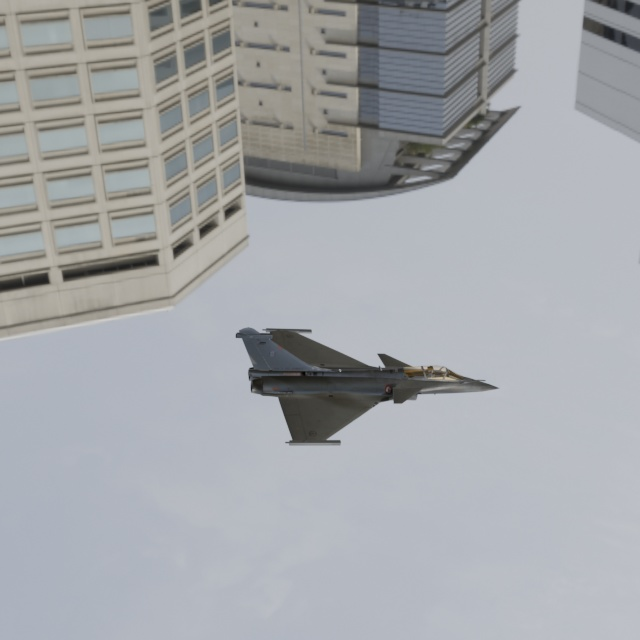dassault_rafale: (221, 274, 542, 452)
